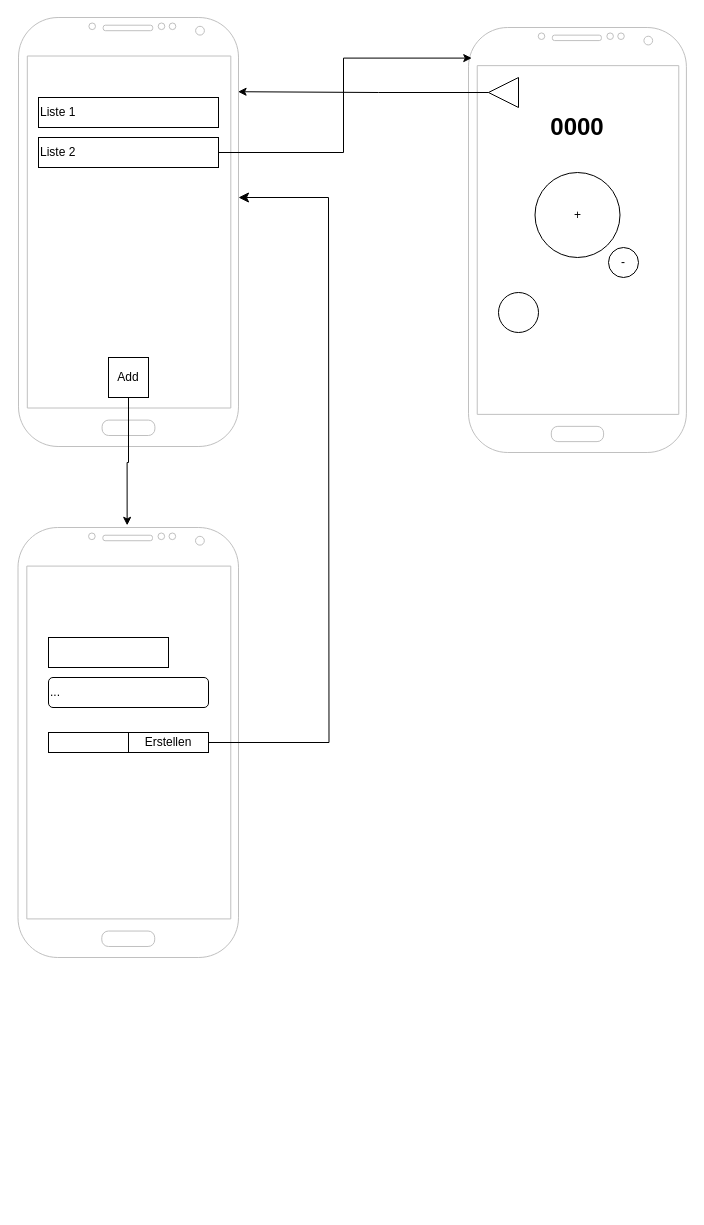
Some shapes in this 704 by 1225 pixel diagram are drawn without their labels. The centre of each missing label's shape, as x and y in pixels:
Abbrechen: the point at 88,742
Listen name: the point at 108,652
Reset: the point at 518,312
